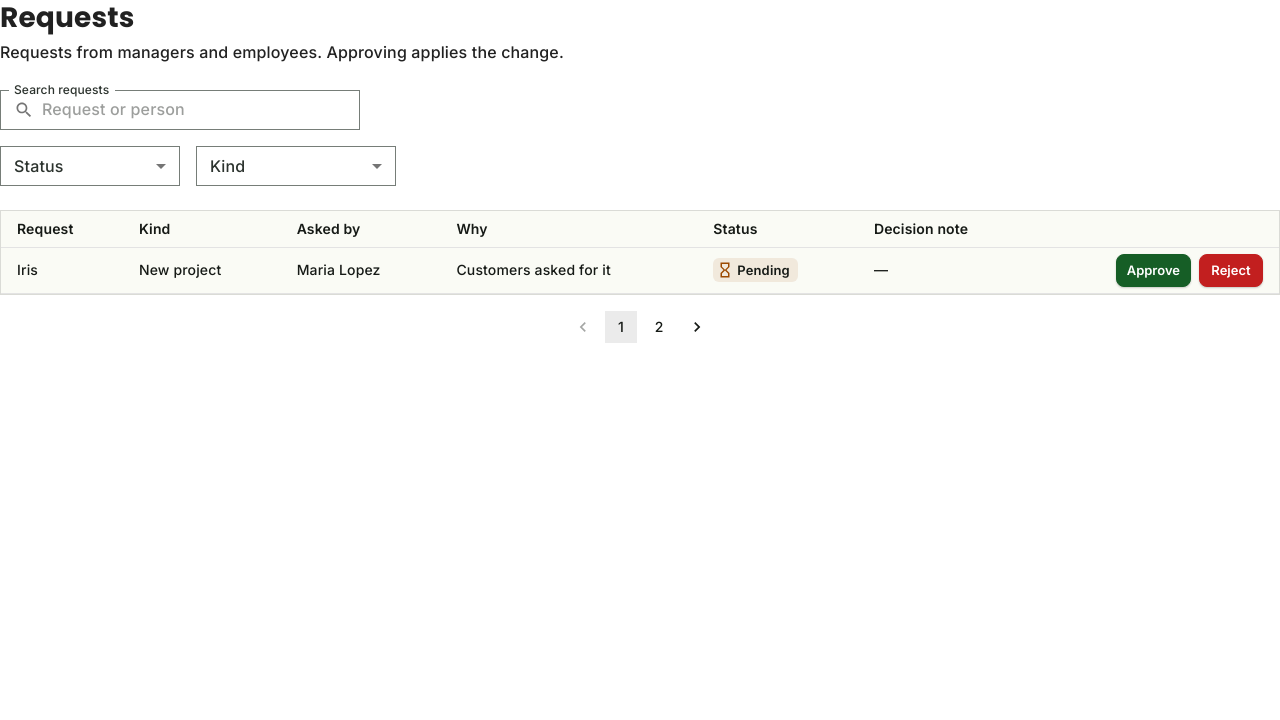
Test case: RequestsPage › steps back to the last page that exists when the last request on the last page is decided
Click the button named "go to page 2".
click(659, 327)  # box [643,311,675,343]
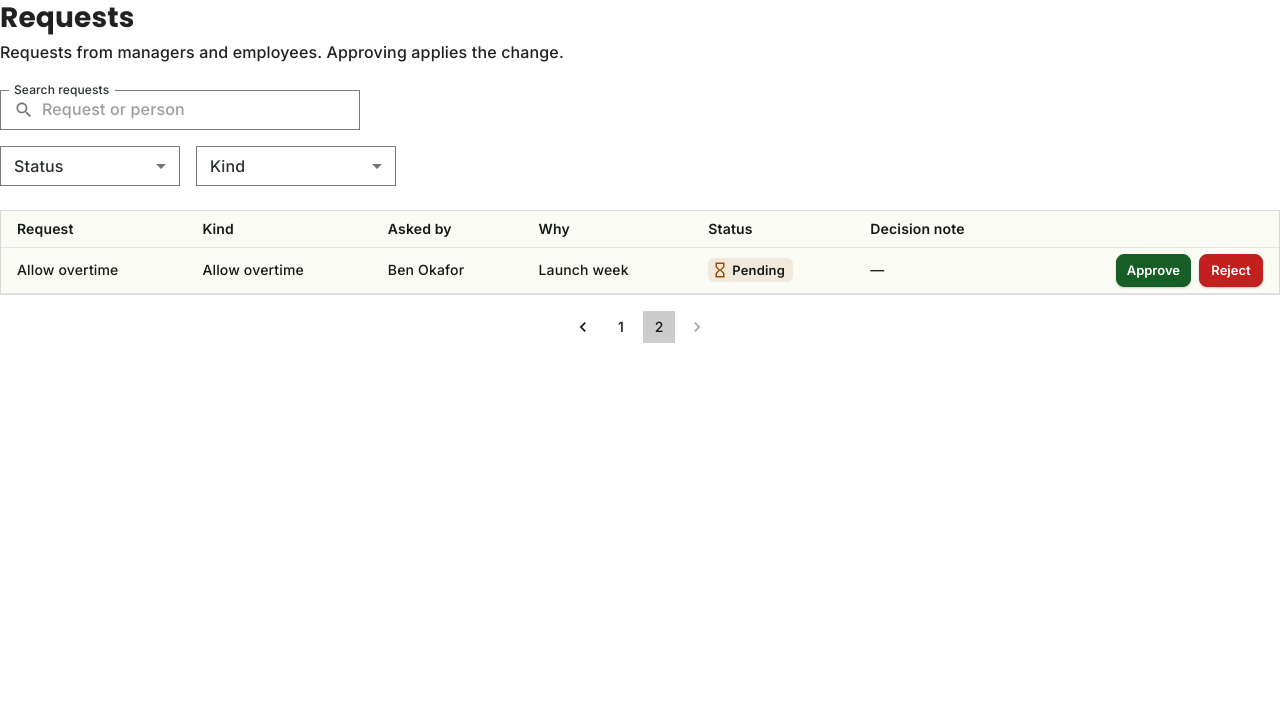
Click the button with aria-label "approve allow overtime".
click(1153, 270)  # box [1116,254,1191,287]
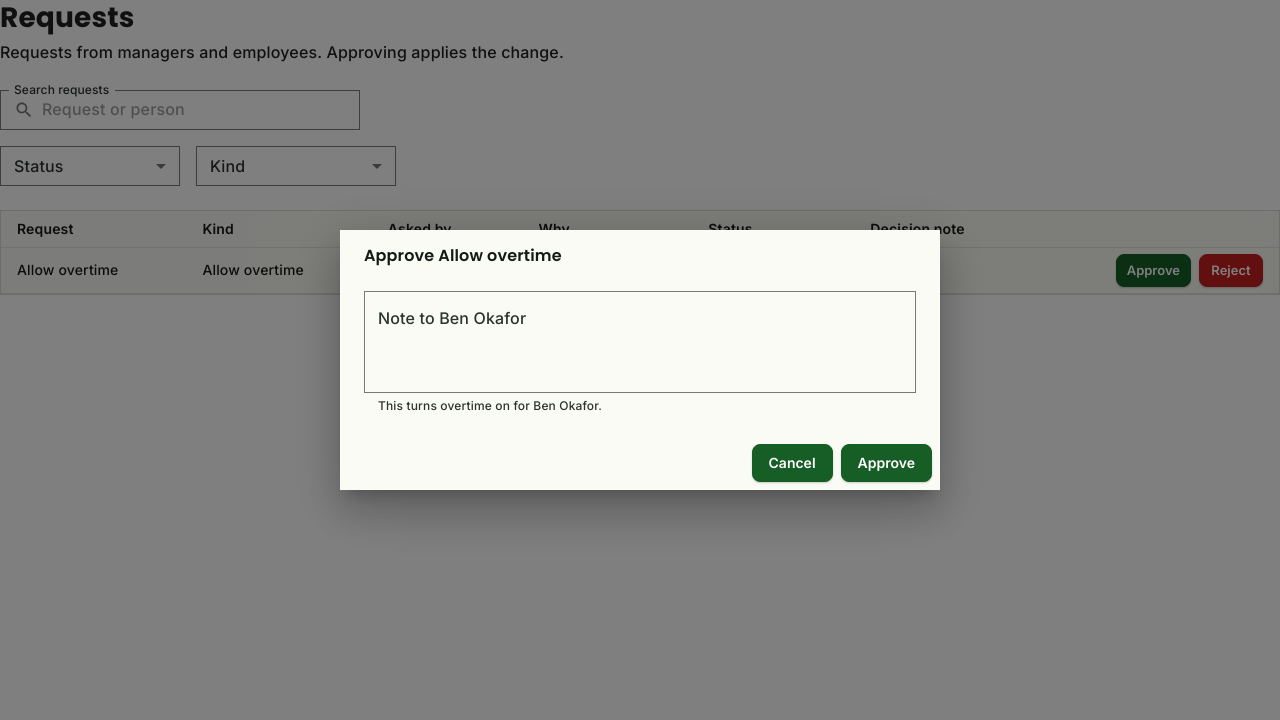
Click the button "Approve".
click(886, 463)  # box [841,444,932,482]
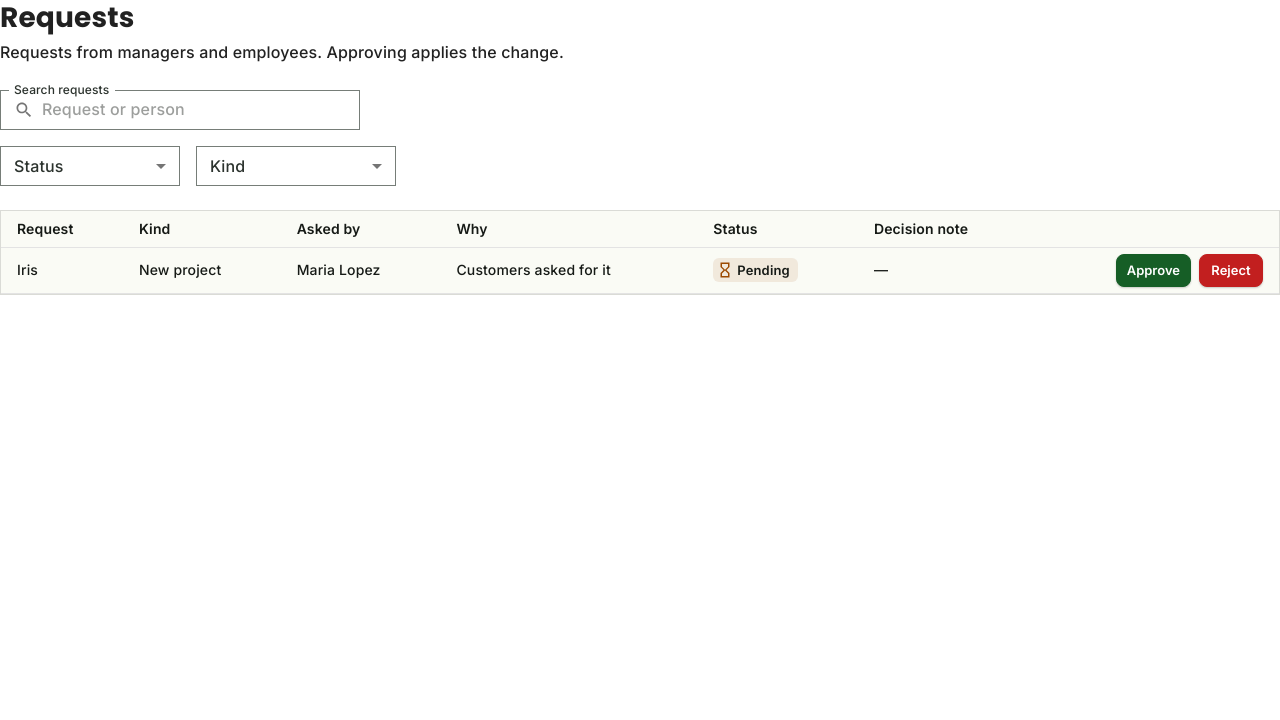
Expected: the text "Iris" is shown, [1,248,123,293]
